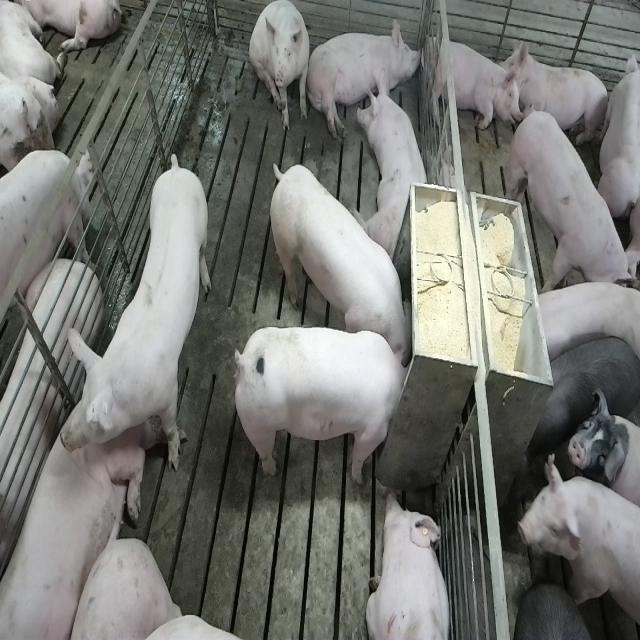Feeding: (264, 160, 412, 362), (229, 324, 410, 484)
Lateral_lying: (306, 15, 424, 141)
Sitting: (250, 1, 312, 136)
Standing: (61, 157, 212, 489), (509, 102, 635, 301), (517, 452, 638, 640), (0, 150, 94, 351), (528, 333, 639, 459), (527, 277, 639, 363), (567, 384, 640, 515)
Sternal_lying: (0, 376, 144, 640), (358, 68, 432, 259), (366, 489, 452, 640), (504, 39, 612, 153), (423, 33, 516, 133)
